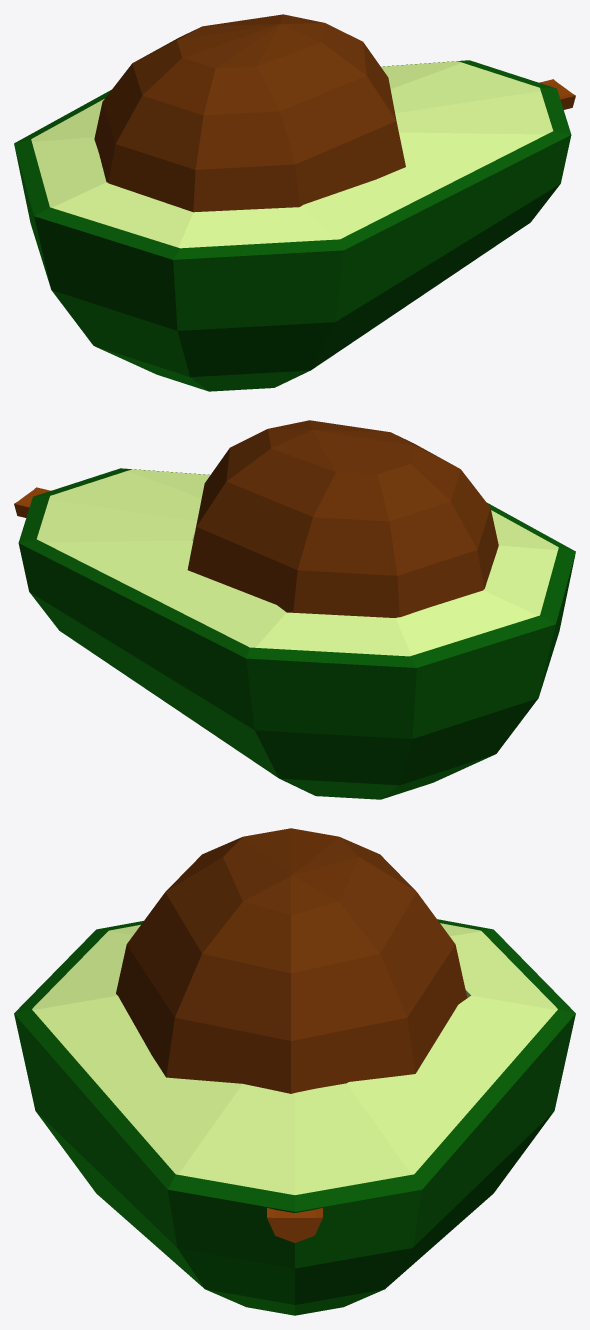
The model's file is avocadohalf2.fbx.
The picture shows the model from 3 angles, top to bottom: view 1: azimuth 30°, elevation 25°; view 2: azimuth 150°, elevation 25°; view 3: azimuth 270°, elevation 25°; orthographic projection. The views are drawn at different scales.
Parts seen in each view (by area): view 1: Sphere.001; view 2: Sphere.001; view 3: Sphere.001.
Part boxes in pixels (x1,y1,x2,y2): Sphere.001: [14, 14, 575, 391]; Sphere.001: [14, 420, 575, 799]; Sphere.001: [14, 828, 575, 1315].
Bounding box in the file's own units: 272 × 165 × 200.
